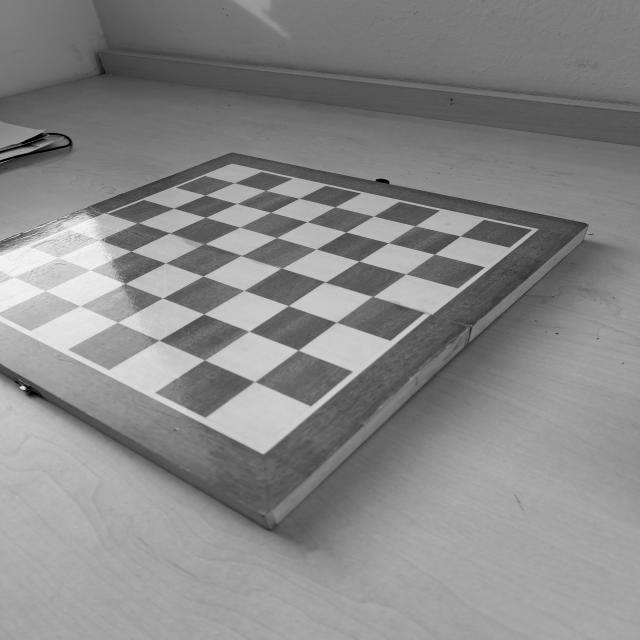chess-table-corners: (243, 428, 281, 456), (521, 224, 541, 238), (226, 160, 238, 168)
